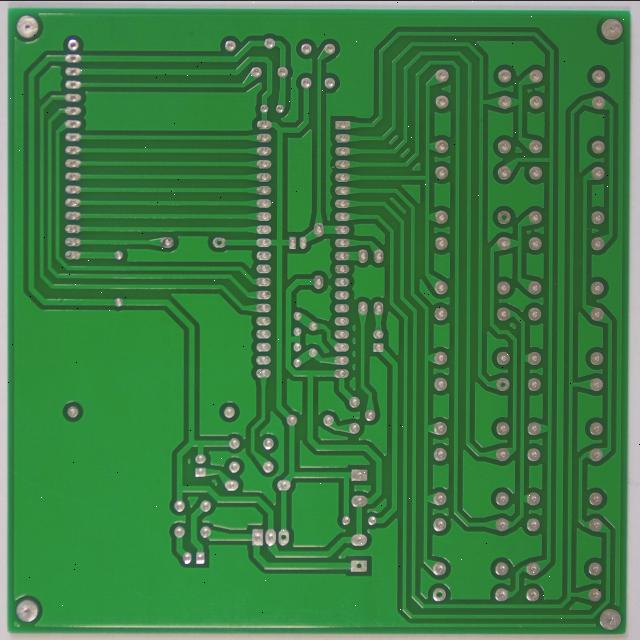missing_hole: (376, 549, 401, 570), (538, 172, 556, 192), (468, 579, 485, 600), (536, 353, 554, 372), (300, 518, 316, 537), (228, 200, 245, 216)
